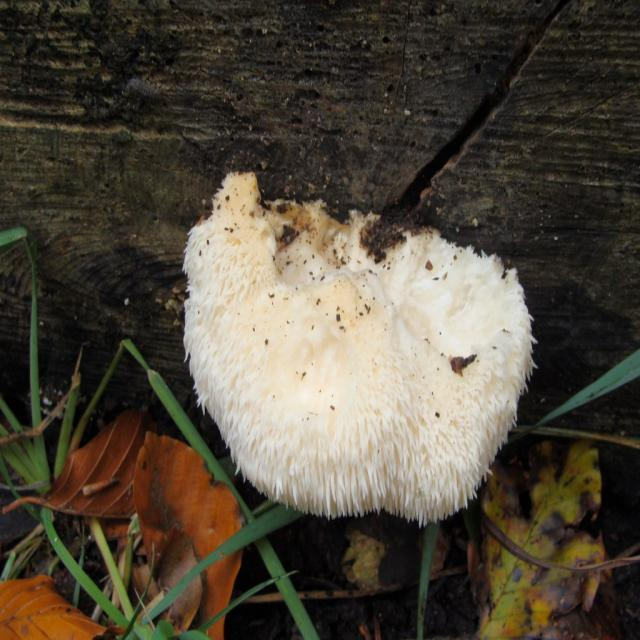Hericium erinaceus: (183, 167, 535, 520)
